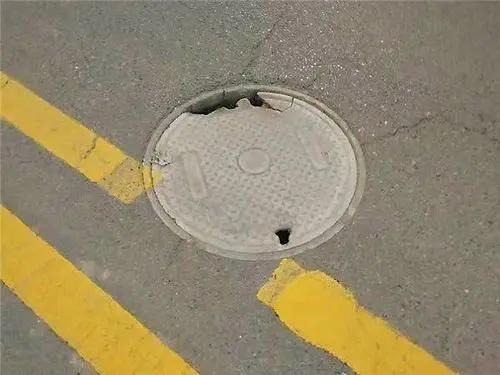wellcover: (140, 83, 367, 259)
